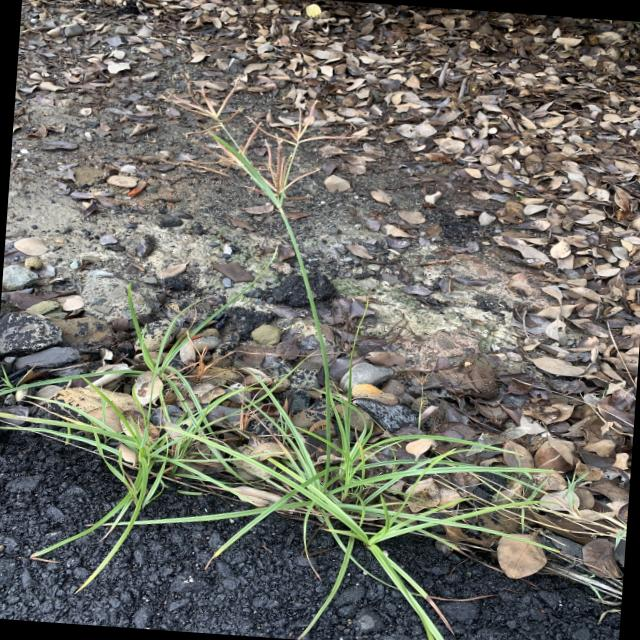cyperus: (154, 70, 374, 217)
